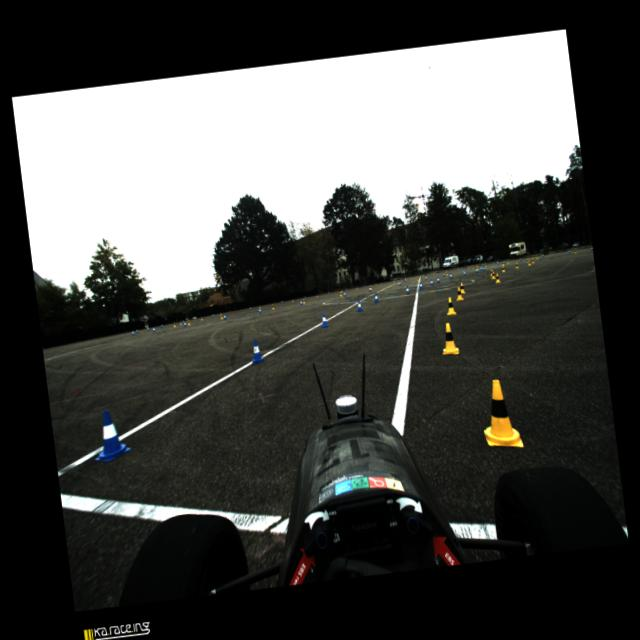blue_cone: (89, 408, 132, 463), (248, 338, 264, 363), (319, 312, 329, 327), (356, 298, 362, 312), (373, 292, 379, 302), (404, 285, 410, 294), (428, 278, 434, 286), (418, 281, 423, 289), (436, 276, 440, 283), (448, 272, 452, 279), (462, 270, 466, 276), (474, 267, 478, 273), (482, 265, 486, 271), (222, 314, 226, 320), (479, 265, 483, 270), (136, 328, 140, 333), (146, 325, 150, 330), (152, 326, 155, 332), (160, 322, 163, 328), (398, 280, 401, 286), (442, 272, 446, 276), (183, 321, 186, 326), (343, 291, 346, 296), (368, 286, 371, 291), (424, 276, 427, 280), (131, 330, 134, 334), (258, 308, 261, 312), (300, 299, 302, 305), (496, 261, 499, 264), (182, 318, 184, 322), (212, 313, 214, 317), (249, 306, 251, 310), (280, 300, 282, 304), (363, 284, 365, 288), (395, 278, 397, 282), (503, 259, 505, 263), (542, 254, 544, 258), (568, 248, 570, 252), (590, 246, 592, 250), (304, 295, 306, 298), (408, 276, 410, 278), (431, 272, 433, 274), (460, 266, 461, 270), (520, 258, 522, 260), (381, 281, 382, 284), (482, 263, 483, 266), (493, 261, 494, 264), (421, 274, 422, 276), (328, 291, 328, 294)
yellow_cone: (478, 377, 524, 451), (437, 321, 459, 356), (444, 296, 456, 315), (454, 286, 464, 301), (494, 272, 501, 283), (458, 282, 464, 294), (490, 270, 496, 278), (501, 265, 505, 272), (489, 269, 493, 276), (531, 258, 535, 264), (514, 262, 518, 268), (527, 259, 531, 265), (474, 264, 478, 270), (271, 304, 275, 310), (187, 319, 191, 325), (178, 320, 182, 325), (302, 298, 305, 304), (220, 313, 223, 319), (501, 260, 504, 266), (526, 258, 530, 262), (172, 322, 176, 326), (339, 291, 342, 296), (574, 248, 576, 254), (535, 254, 538, 258), (445, 270, 448, 274), (370, 284, 372, 290), (484, 262, 486, 268), (506, 259, 508, 263), (472, 265, 474, 269), (468, 265, 470, 269), (458, 266, 460, 270), (416, 276, 418, 280), (375, 282, 377, 286), (356, 286, 358, 290), (340, 288, 342, 292), (316, 292, 318, 296), (292, 298, 294, 302), (259, 304, 261, 308), (201, 316, 203, 320), (422, 273, 424, 276), (393, 279, 395, 282), (432, 272, 434, 274)
